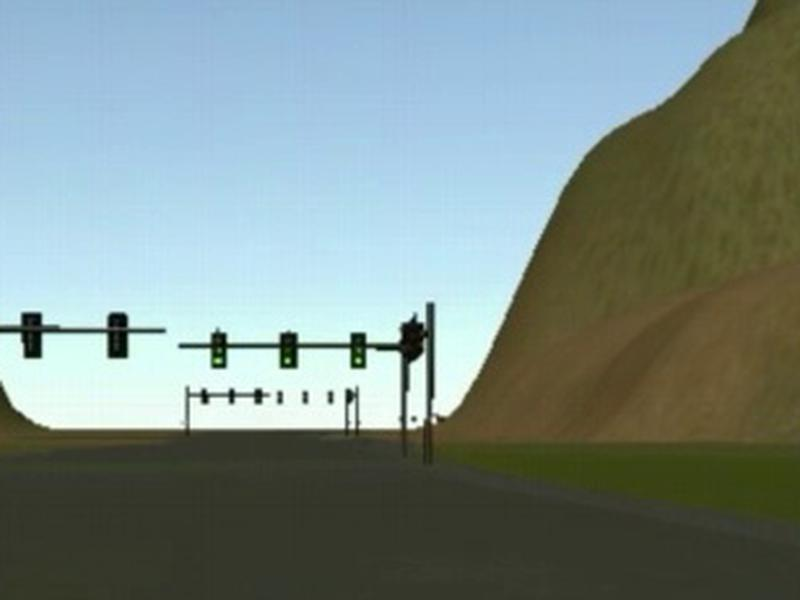Green: (280, 331, 298, 368), (210, 330, 225, 367), (351, 331, 366, 368)
